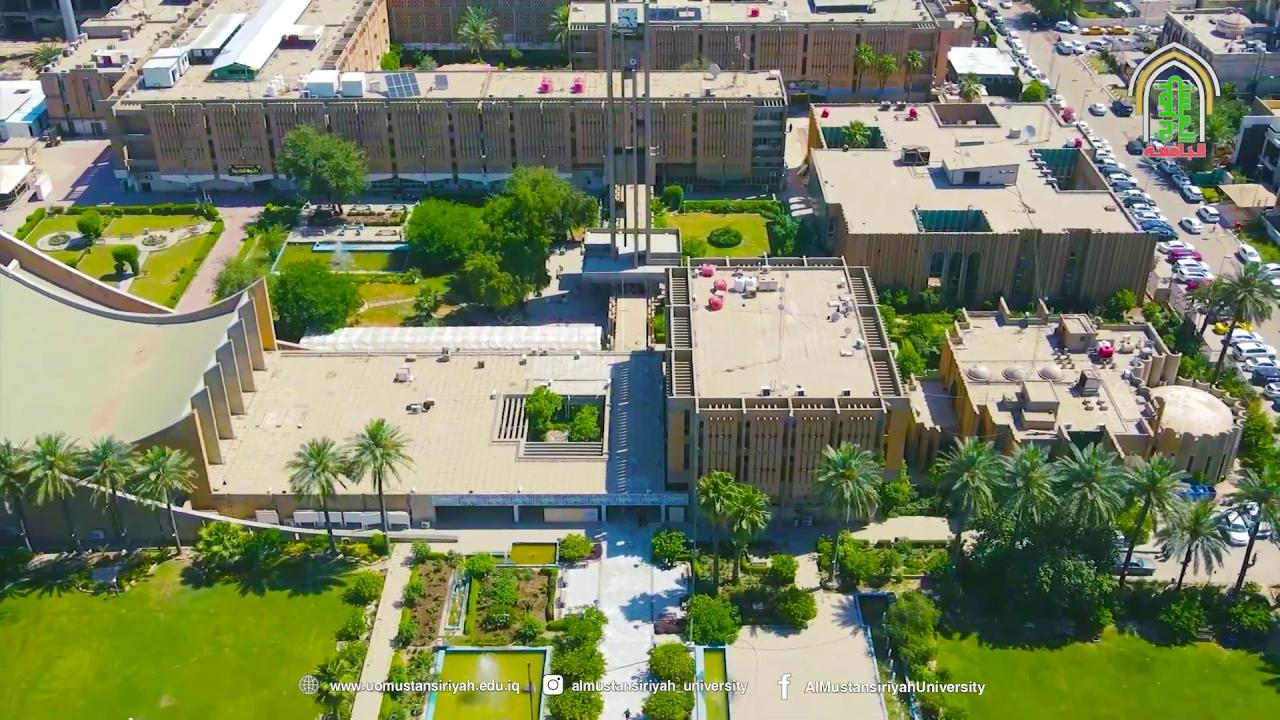car: (1211, 505, 1273, 547), (1231, 340, 1280, 363), (1170, 482, 1216, 503), (1174, 265, 1220, 286), (1110, 555, 1155, 576), (1212, 320, 1256, 339), (1220, 331, 1270, 347), (1244, 356, 1280, 377), (653, 612, 687, 634), (1134, 210, 1173, 227), (1248, 366, 1280, 386), (1173, 257, 1210, 273), (1157, 240, 1194, 255), (1236, 244, 1261, 266), (1106, 172, 1140, 187), (1164, 250, 1205, 262), (1128, 199, 1160, 214), (1120, 194, 1160, 206), (1116, 189, 1156, 201), (1154, 156, 1182, 173), (1146, 224, 1174, 240), (1196, 205, 1220, 222), (1110, 528, 1130, 548), (1111, 99, 1134, 116), (1169, 172, 1192, 189), (1180, 217, 1204, 233), (1100, 164, 1132, 176), (228, 164, 262, 175), (1127, 138, 1147, 156), (1188, 184, 1206, 200), (1088, 103, 1106, 116)
fountain: (688, 253, 892, 404), (843, 589, 933, 720), (422, 643, 549, 719), (270, 223, 412, 277), (309, 239, 410, 273), (696, 649, 736, 720)
tree: (403, 163, 598, 317), (1184, 258, 1278, 388), (484, 163, 592, 251), (343, 417, 416, 540), (272, 121, 368, 212), (267, 256, 364, 342), (283, 435, 351, 556), (128, 443, 199, 555), (1222, 458, 1278, 598), (1154, 496, 1231, 590), (1049, 440, 1124, 534), (928, 433, 1009, 520), (461, 244, 550, 318), (80, 433, 139, 544), (811, 439, 882, 529), (1116, 451, 1182, 547), (997, 441, 1059, 543), (403, 195, 488, 263), (694, 469, 739, 588), (17, 430, 87, 506), (880, 587, 940, 674), (544, 636, 607, 718), (722, 482, 771, 583), (640, 640, 695, 719), (318, 137, 368, 212), (0, 435, 32, 549), (461, 250, 514, 309), (684, 592, 740, 645), (310, 656, 356, 719), (455, 3, 499, 62), (211, 255, 261, 300), (523, 384, 563, 438), (694, 468, 739, 516), (410, 274, 452, 324), (1186, 274, 1227, 325), (245, 220, 290, 262), (547, 4, 575, 70), (775, 586, 817, 630), (762, 210, 801, 256), (1204, 109, 1236, 163), (640, 688, 694, 719), (340, 569, 384, 606), (649, 528, 687, 570), (894, 337, 927, 384), (334, 605, 369, 642), (567, 404, 601, 442), (872, 52, 898, 101), (558, 532, 594, 566), (902, 46, 924, 100), (766, 551, 799, 587), (852, 42, 873, 93), (28, 41, 62, 72), (1108, 287, 1136, 323), (395, 606, 419, 647), (110, 244, 140, 275), (706, 224, 743, 248), (840, 118, 870, 147), (75, 208, 103, 239), (680, 234, 707, 266), (958, 71, 985, 102), (649, 195, 669, 229), (660, 183, 684, 211), (409, 538, 431, 565), (412, 47, 436, 71), (1058, 0, 1083, 23), (1023, 79, 1047, 102)
